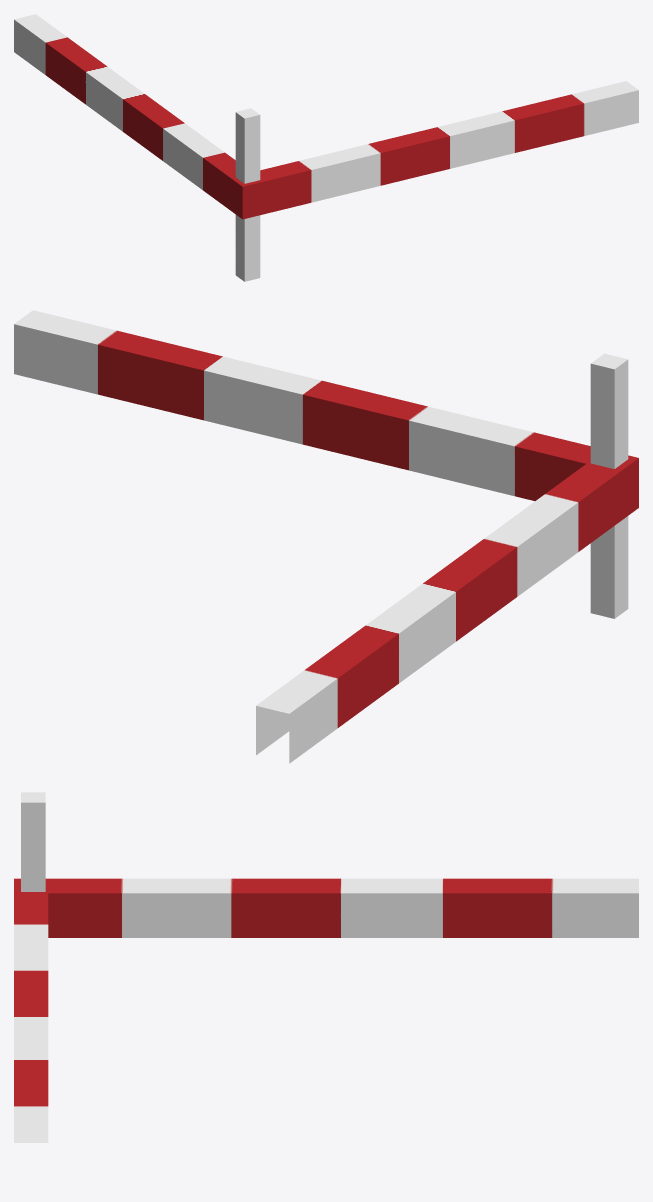
File: Fencingcor_1.FBX
3 views of the same model, one above another, from view 1: azimuth 30°, elevation 25°; view 2: azimuth 150°, elevation 25°; view 3: azimuth 270°, elevation 25° (orthographic). The views are drawn at different scales.
Visible parts, largest first — view 1: Box008, Box009; view 2: Box008, Box009; view 3: Box008, Box009.
Boxes of the visible parts, x1,y1,x2,y2 form: Box008: (14, 14, 638, 219); Box009: (235, 108, 260, 281); Box008: (14, 310, 638, 763); Box009: (590, 353, 628, 618); Box008: (14, 878, 638, 1142); Box009: (21, 792, 45, 891).
Bounding box in the file's own units: 1.27 × 0.5 × 1.27.
Materials: 2 (2 with a texture image).
